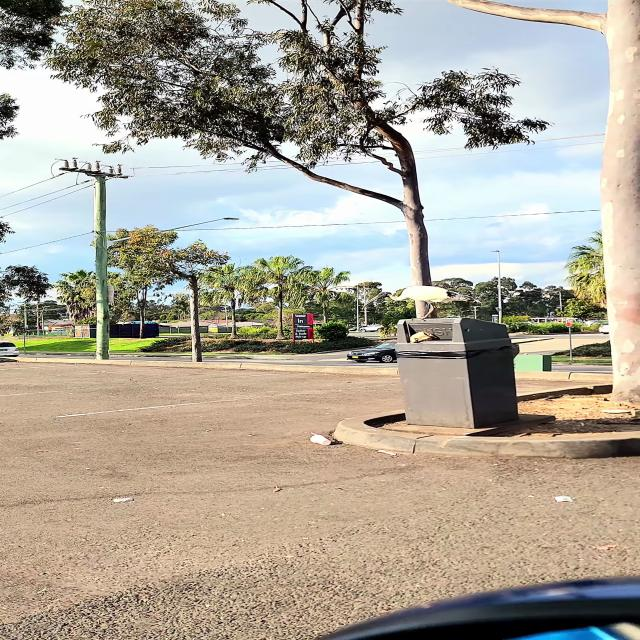Birds-Ibis: (362, 284, 471, 322)
